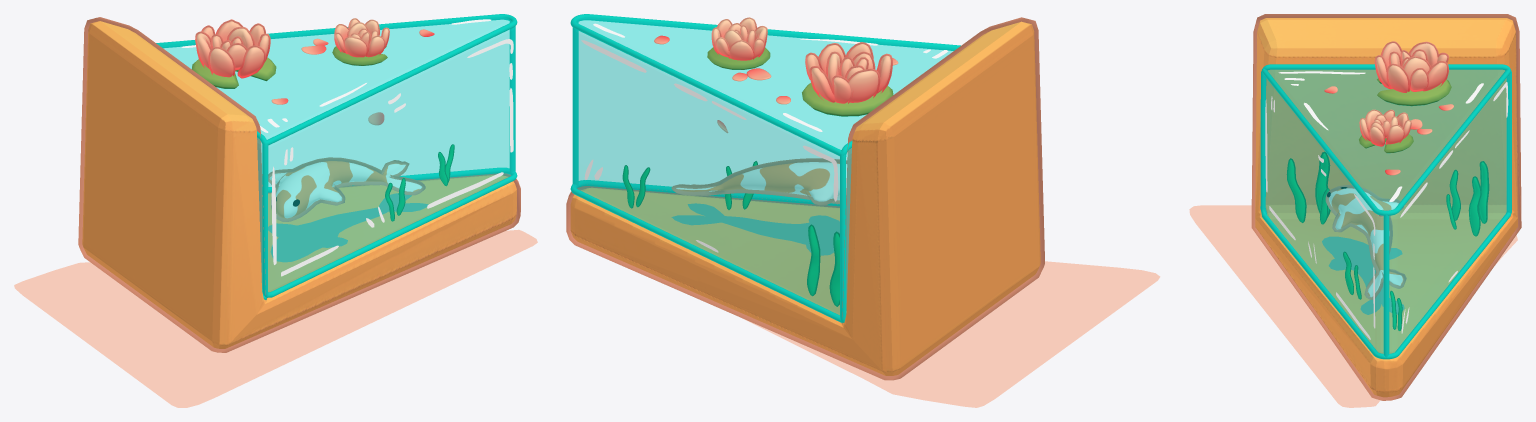
The model's file is koi_fish_cake.glb.
The picture shows the model from 3 angles, left to right: view 1: azimuth 30°, elevation 25°; view 2: azimuth 150°, elevation 25°; view 3: azimuth 270°, elevation 25°; orthographic projection. The views are drawn at different scales.
Visible parts, largest first — view 1: cake, water, shadow cake, water outline, lilies, cake outline, koi, shadow koi, highlights, seaweed, petals; view 2: cake, water, shadow cake, water outline, lilies, cake outline, koi, shadow koi, seaweed, highlights, petals; view 3: cake, water, shadow cake, water outline, lilies, cake outline, seaweed, koi, highlights, shadow koi, petals.
Part boxes in pixels (<box>): cake: <box>82,21,516,348</box>; water: <box>161,17,514,292</box>; shadow cake: <box>14,229,537,407</box>; water outline: <box>156,14,517,299</box>; lilies: <box>192,18,389,88</box>; cake outline: <box>78,17,520,352</box>; koi: <box>268,157,425,221</box>; shadow koi: <box>268,193,428,262</box>; highlights: <box>181,19,513,276</box>; seaweed: <box>385,144,454,221</box>; petals: <box>271,29,434,125</box>; cake: <box>570,21,1040,375</box>; water: <box>573,17,955,315</box>; shadow cake: <box>743,261,1160,407</box>; water outline: <box>570,14,960,323</box>; lilies: <box>707,17,893,116</box>; cake outline: <box>566,17,1044,380</box>; koi: <box>671,158,847,205</box>; shadow koi: <box>671,203,839,255</box>; seaweed: <box>622,161,839,306</box>; highlights: <box>581,23,948,252</box>; petals: <box>654,35,898,132</box>; cake: <box>1255,18,1517,397</box>; water: <box>1264,70,1508,353</box>; shadow cake: <box>1189,205,1517,407</box>; water outline: <box>1260,64,1511,359</box>; lilies: <box>1359,41,1451,153</box>; cake outline: <box>1251,14,1521,400</box>; seaweed: <box>1287,151,1489,330</box>; koi: <box>1325,185,1406,299</box>; highlights: <box>1265,71,1508,339</box>; shadow koi: <box>1322,236,1404,314</box>; petals: <box>1324,86,1453,216</box>.
Size of the model in its own units: 2.68 by 1.44 by 1.85.
Materials: 2 (2 with a texture image).
